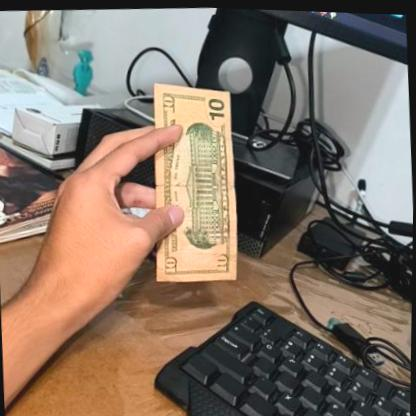ten-back: (141, 74, 246, 283)
